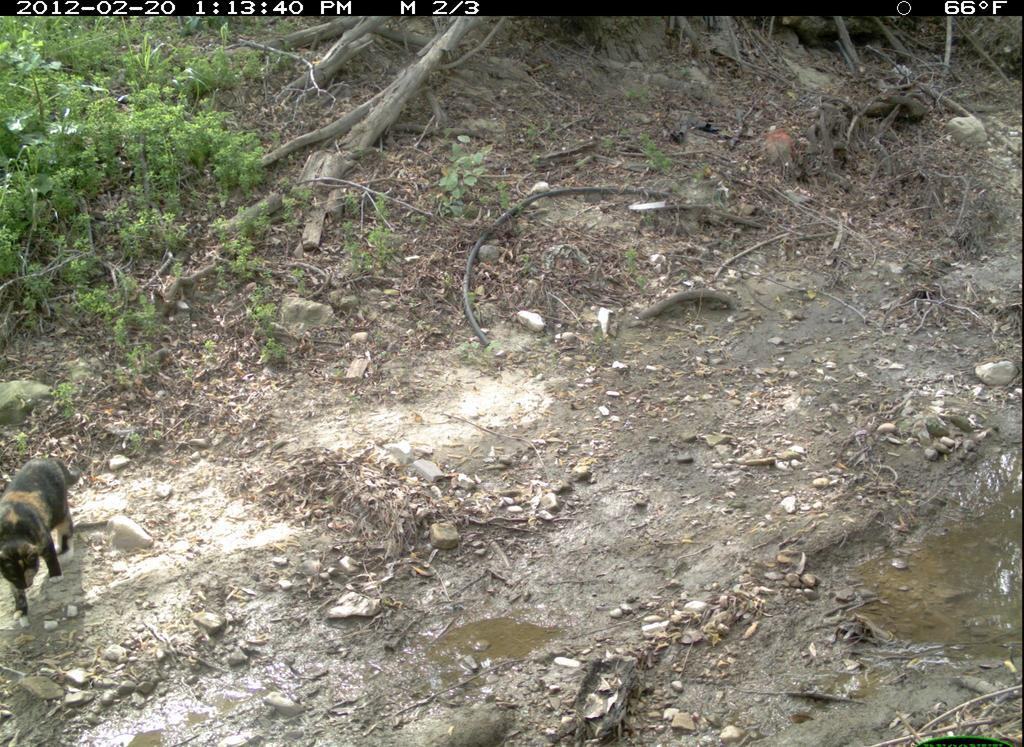cat: (2, 446, 99, 634)
